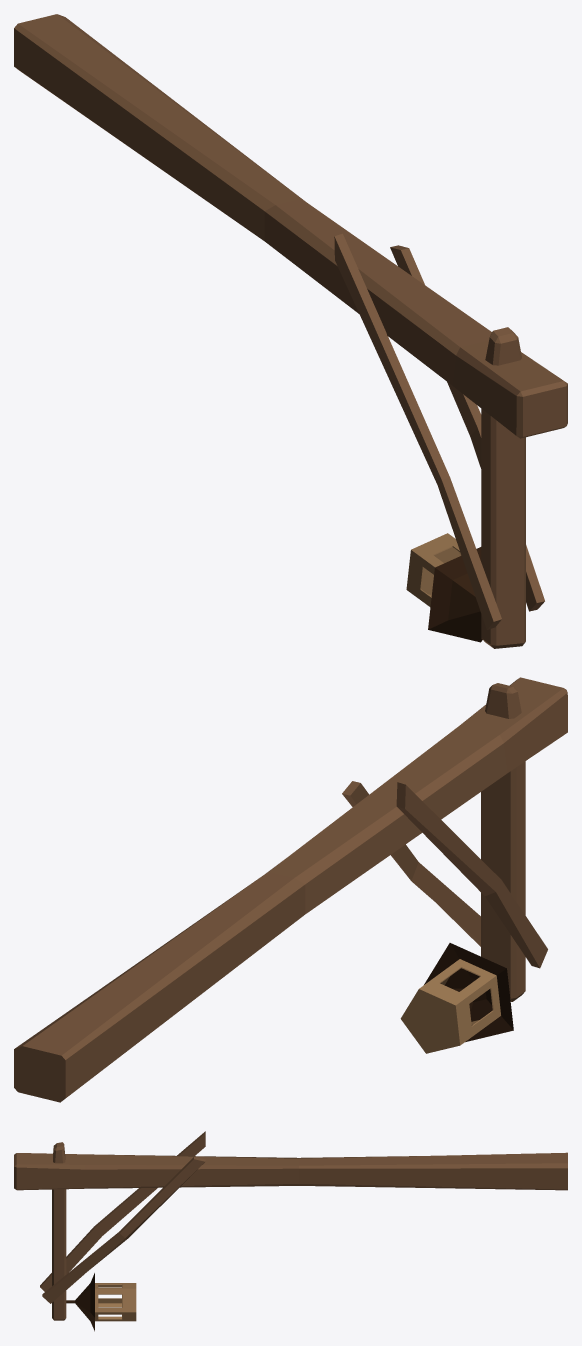
Rendered from Lamp_01.fbx.
3 views of the same model, one above another, from view 1: azimuth 30°, elevation 25°; view 2: azimuth 150°, elevation 25°; view 3: azimuth 270°, elevation 25° (orthographic). The views are drawn at different scales.
Parts seen in each view (by area): view 1: Lamp_1.0_LOW.002; view 2: Lamp_1.0_LOW.002; view 3: Lamp_1.0_LOW.002.
Part boxes in pixels (left/top/right/bottom): Lamp_1.0_LOW.002: left=14, top=14, right=567, bottom=648; Lamp_1.0_LOW.002: left=14, top=677, right=567, bottom=1102; Lamp_1.0_LOW.002: left=14, top=1131, right=567, bottom=1331.
Size of the model in its own units: 31.63 by 112 by 299.
